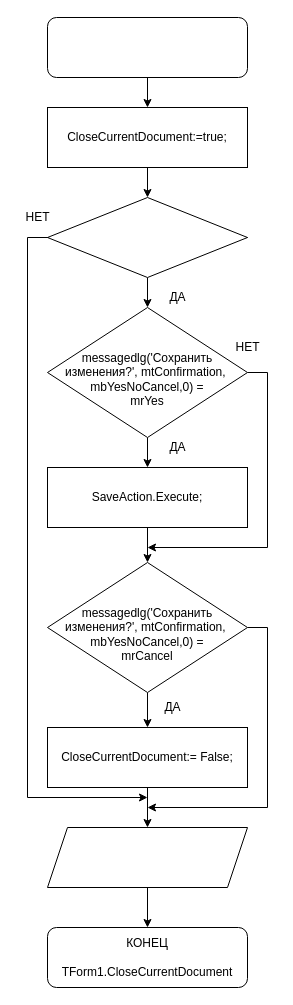
The diagram is 293 pixels wide and 1005 high, and some of its shapes have lost their labels. The shapes that lost their labels are listed below. From the top down, each one's centre as x and y in pixels, then its label:
[147,47]: TForm1.CloseCurrentDocument НАЧАЛО
[147,237]: Memo1.Modified
[147,857]: ВЕРНУТЬ CloseCurrentDocument
